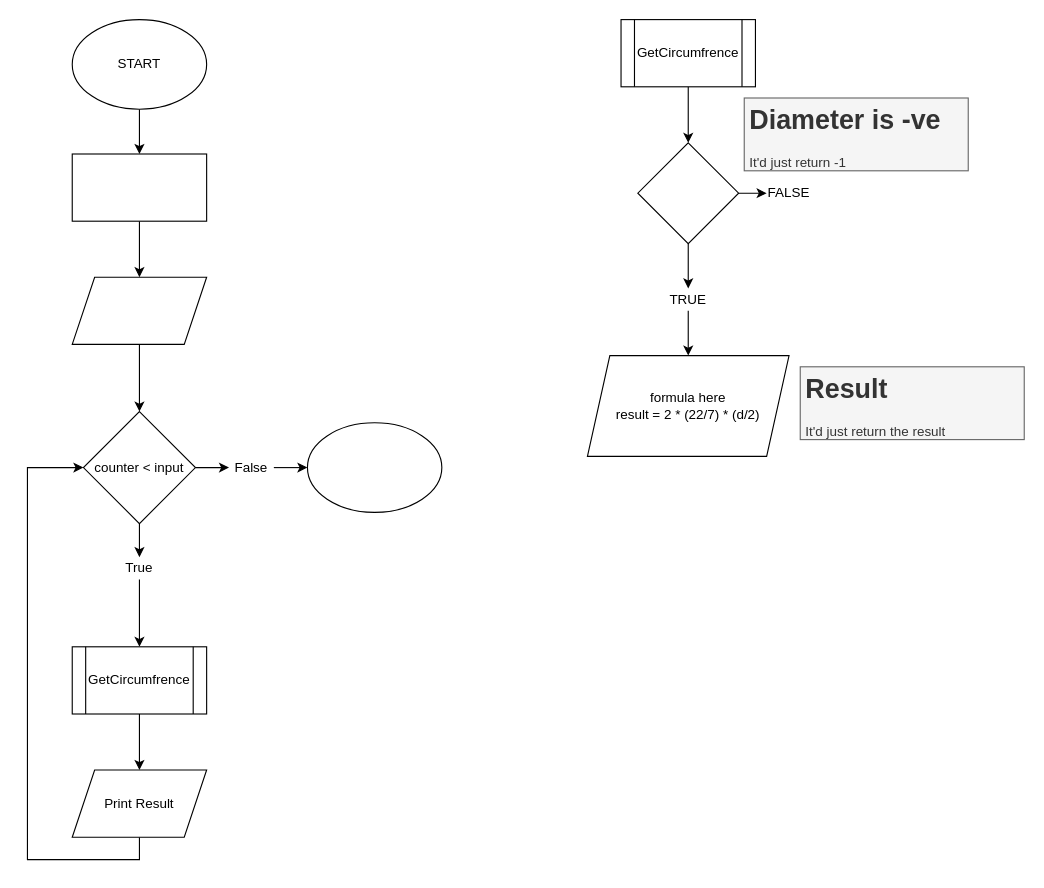
Image size: 1044x888. Some labels were removed from this diagram. The centre of each missing label's shape, as x and y in pixels:
"diameter => 0" goes at [688,193].
"END" goes at [374,467].
"USER INPUT for circles" goes at [139,310].
"VARIABLE INIT" goes at [139,187].
